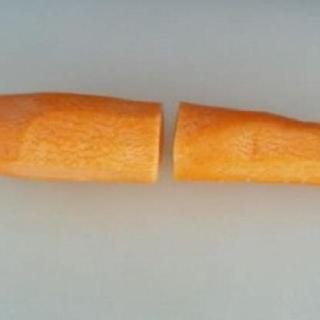carrot: (0, 86, 167, 192), (167, 100, 320, 190)
